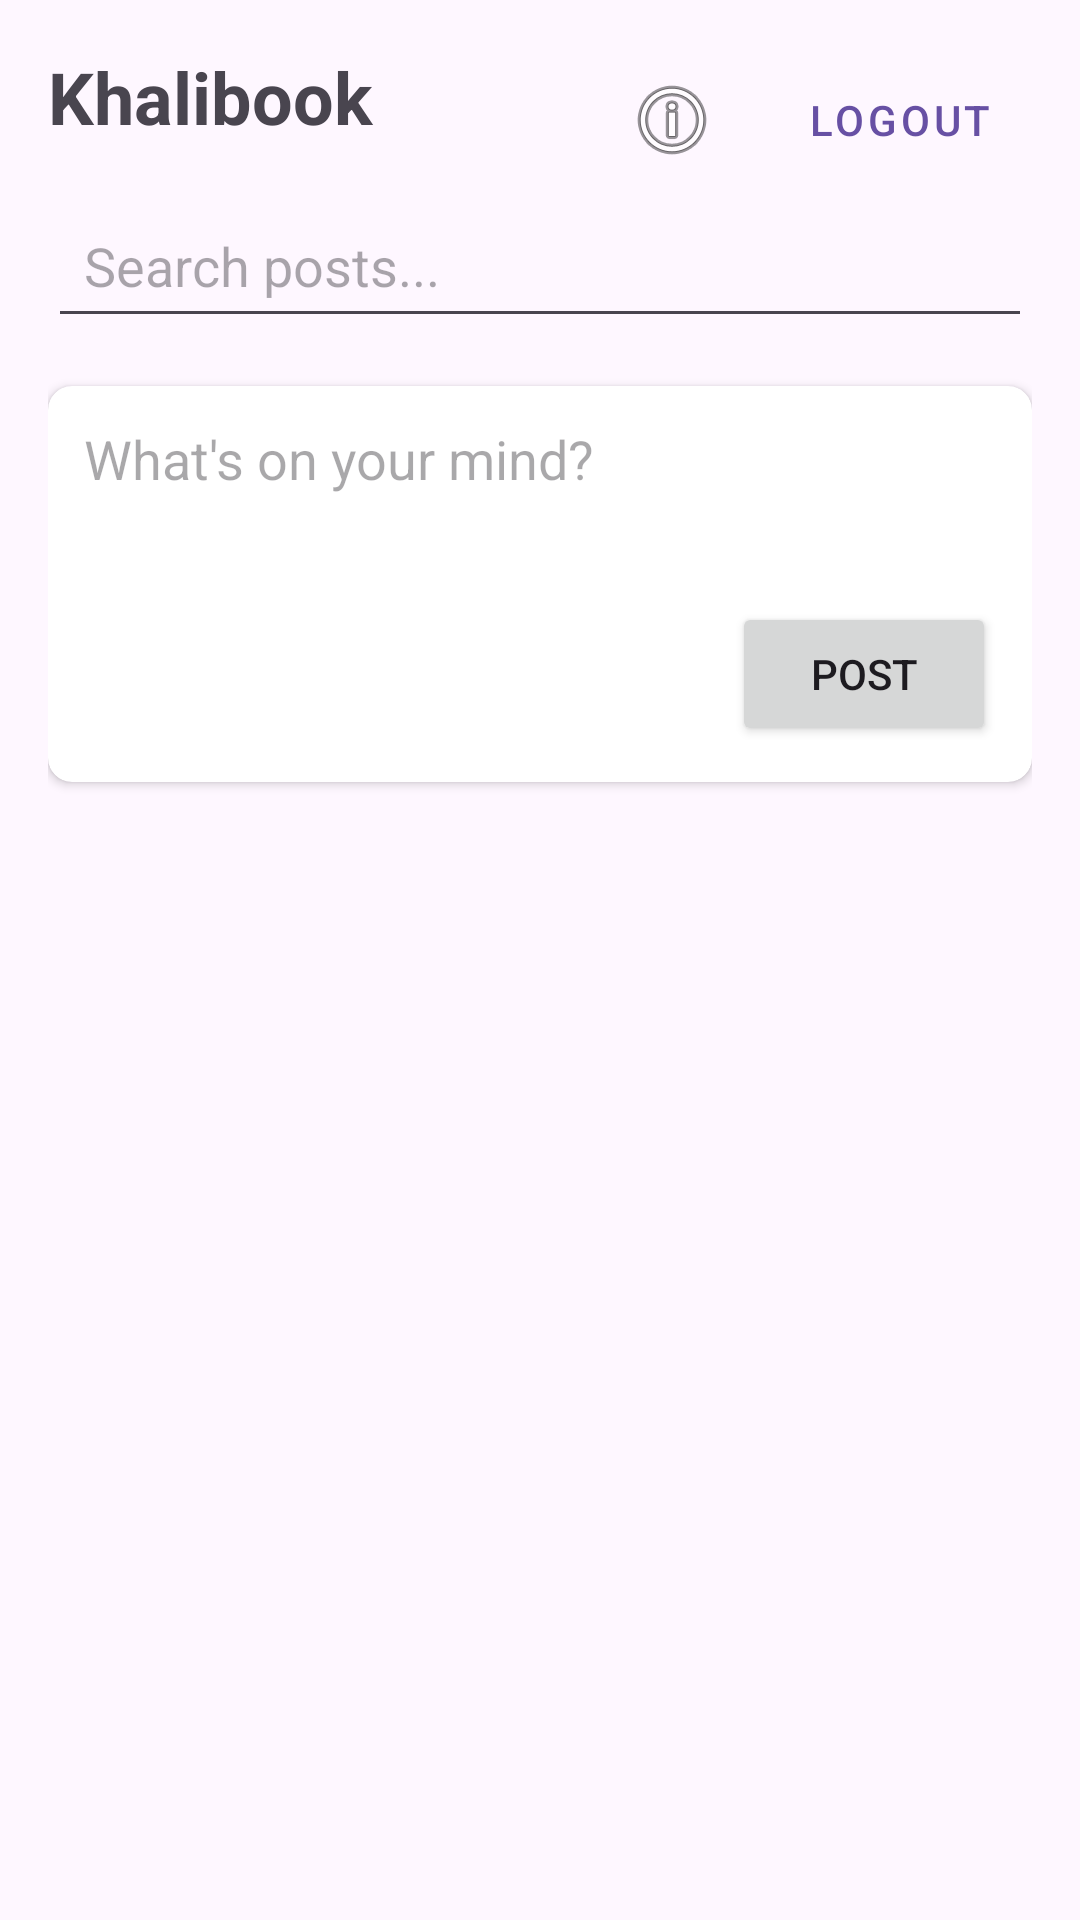

Screen size 1080px x 1920px. Icon name, then its box in pixels as box(x1, y1, x2, y2):
info details: box(637, 85, 707, 155)
